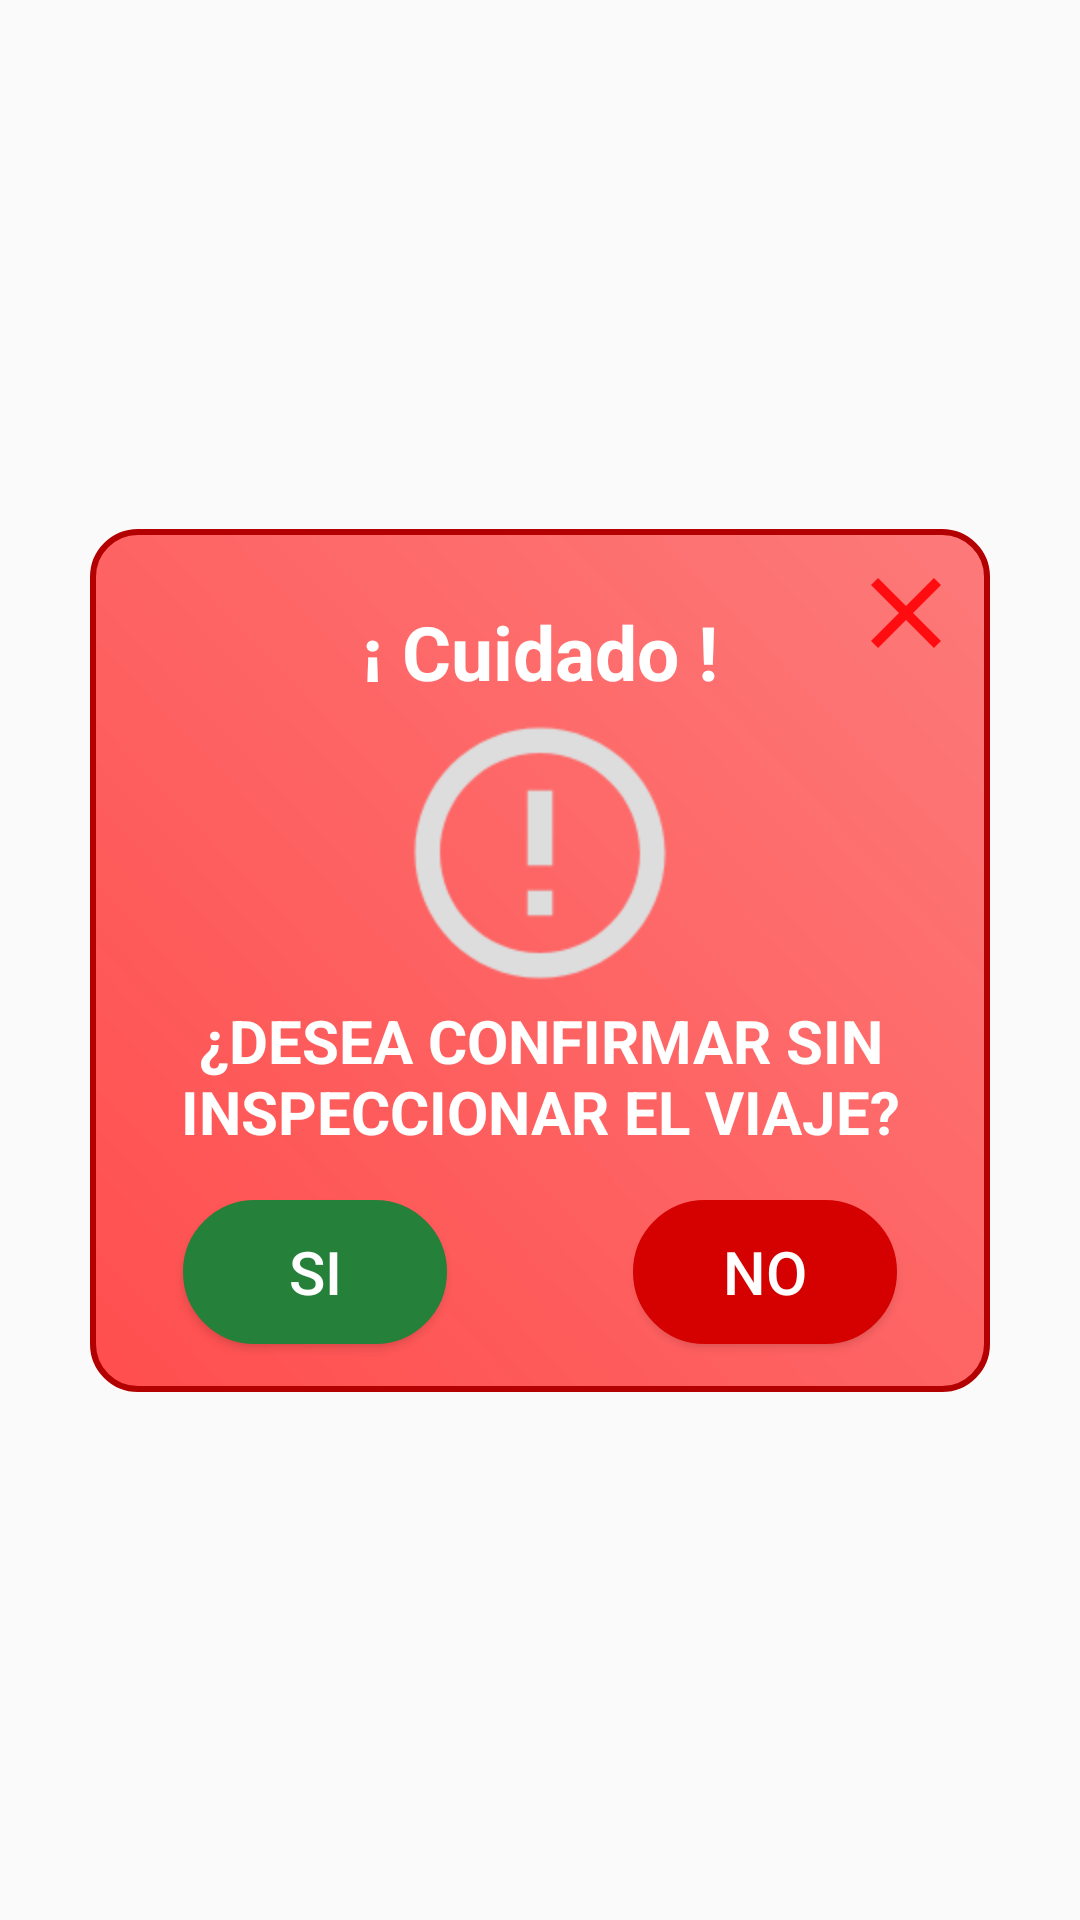

Icons on this 1080x1920 Android screen, each with the point to tap as [x,y]:
delete: [906,613]
